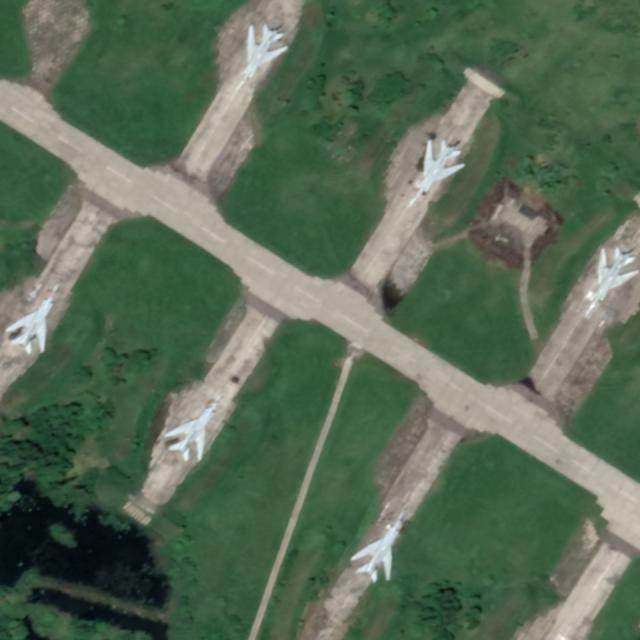fighter jet: (584, 236, 636, 324), (350, 507, 400, 589), (239, 15, 293, 84), (164, 402, 215, 474), (415, 135, 462, 206), (8, 292, 52, 358)
